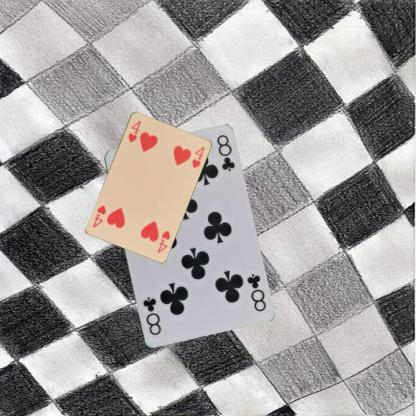4h: (154, 228, 171, 254), (126, 118, 142, 143)
8c: (244, 270, 267, 312)
